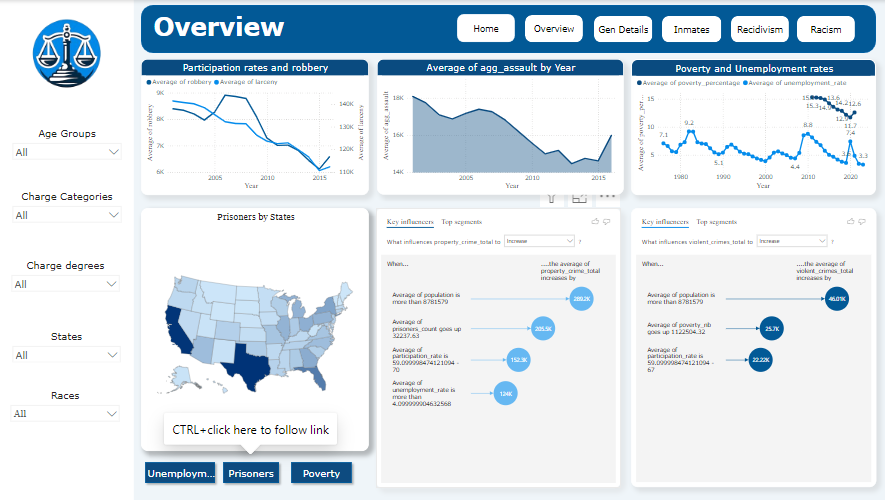

What the dashboard file says about the page in this screenshot:
{"tool":"powerbi","page":{"name":"General","canvas":[1920,1080],"ordinal":1},"visuals":[{"type":"shape","box":[304.6,10.8,1587.6,103.7],"z":0,"group":"g3"},{"type":"lineChart","title":"Poverty and Unemployment rates","fields":{"Y":["Avg(crimes f_general_metrics.poverty_percentage)","Avg(crimes f_general_metrics.unemployment_rate)"],"Category":["crimes f_general_metrics.date.Variation.Date Hierarchy.Year"]},"box":[1363,127.4,529.2,293.8],"z":0},{"type":"group","id":"g1","title":"Group 2","box":[326.2,19.4,1520.6,84.2],"z":1000,"group":"g3"},{"type":"shapeMap","title":"Prisoners by States","fields":{"Category":["crimes d_state.state_name"],"Value":["Sum(crimes f_general_metrics.prisoners_count)"]},"box":[304.6,449.3,492.5,524.9],"z":1000},{"type":"textbox","box":[326.2,19.4,652.3,84.2],"z":2000,"group":"g1"},{"type":"lineChart","title":"Participation rates and robbery","fields":{"Y":["Avg(crimes f_general_metrics.robbery)"],"Y2":["Avg(crimes f_general_metrics.larceny)"],"Category":["crimes f_general_metrics.date.Variation.Date Hierarchy.Year"]},"box":[304.6,127.4,492.5,293.8],"z":3000},{"type":"shape","box":[0,0,289.4,1080],"z":4000},{"type":"slicer","title":"Age Groups","fields":{"Values":["crimes d_age.age_group"]},"box":[17.5,275,255,77.5],"z":5000},{"type":"slicer","title":"Charge Categories","fields":{"Values":["crimes d_charges_categories.category"]},"box":[17.5,410,255,100],"z":6000},{"type":"slicer","title":"Charge degrees","fields":{"Values":["crimes d_charge.charge_degree"]},"box":[15,560,252.5,80],"z":7000},{"type":"slicer","title":"Races","fields":{"Values":["crimes d_race.race"]},"box":[12.5,840,255,77.5],"z":8000},{"type":"slicer","title":"States","fields":{"Values":["crimes d_state.state_name"]},"box":[17.5,712.5,252.5,70],"z":9000},{"type":"image","box":[25.5,0,236,229.6],"z":10000},{"type":"keyDriversVisual","fields":{"ExplainBy":["Avg(crimes f_general_metrics.unemployment_rate)","Avg(crimes f_general_metrics.participation_rate)","Avg(crimes f_general_metrics.poverty_percentage)","Avg(crimes f_general_metrics.prisoners_count)","Avg(crimes f_general_metrics.population)"],"Target":["crimes f_general_metrics.property_crime_total"]},"box":[811.3,448.5,529.1,604.7],"z":11000},{"type":"shape","box":[473.7,990.2,138.6,63],"z":12000},{"type":"shape","box":[619.8,990.2,148.7,63],"z":14000},{"type":"shape","box":[304.9,990.2,168.8,63],"z":17000},{"type":"areaChart","fields":{"Category":["crimes f_general_metrics.date.Variation.Date Hierarchy.Year"],"Y":["Avg(crimes f_general_metrics.agg_assault)"]},"box":[813.3,126.7,533.3,293.3],"z":18000},{"type":"keyDriversVisual","fields":{"ExplainBy":["Avg(crimes f_general_metrics.poverty_nb)","Avg(crimes f_general_metrics.population)","Avg(crimes f_general_metrics.participation_rate)"],"Target":["crimes f_general_metrics.violent_crimes_total"]},"box":[1363.3,450,530,603.3],"z":19000},{"type":"shape","box":[1282.2,34.6,126.3,56.7],"z":20000,"group":"g2"},{"type":"shape","box":[1430.8,34.6,128.4,56.7],"z":21000,"group":"g2"},{"type":"shape","box":[1578.3,34.6,125.2,56.7],"z":22000,"group":"g2"},{"type":"shape","box":[1722.6,34.6,125.2,56.7],"z":23000,"group":"g2"},{"type":"shape","box":[1134.7,32.4,125.2,58.9],"z":24000,"group":"g2"},{"type":"shape","box":[987.2,30.2,125.2,61.1],"z":25000,"group":"g2"},{"type":"group","id":"g2","title":"Group 1","box":[987.2,30.2,860.7,61.1],"z":25003,"group":"g1"},{"type":"group","id":"g3","title":"Group 3","box":[304.6,10.8,1587.6,103.7],"z":25005}]}

Visuals, with their boxes on the page's 1920x1080 design canvas (x1, y1, x2, y2). These are canvas units, not pixel positions in the 885x500 screenshot, which may show the page scaled, cropped or inside an application window:
shape: select_region(305, 11, 1892, 114)
"Poverty and Unemployment rates" lineChart: select_region(1363, 127, 1892, 421)
"Group 2" group: select_region(326, 19, 1847, 104)
"Prisoners by States" shapeMap: select_region(305, 449, 797, 974)
textbox: select_region(326, 19, 978, 104)
"Participation rates and robbery" lineChart: select_region(305, 127, 797, 421)
shape: select_region(0, 0, 289, 1080)
"Age Groups" slicer: select_region(18, 275, 272, 352)
"Charge Categories" slicer: select_region(18, 410, 272, 510)
"Charge degrees" slicer: select_region(15, 560, 268, 640)
"Races" slicer: select_region(12, 840, 268, 918)
"States" slicer: select_region(18, 712, 270, 782)
image: select_region(26, 0, 262, 230)
keyDriversVisual - Avg(crimes f_general_metrics.unemployment_rate) x Avg(crimes f_general_metrics.participation_rate): select_region(811, 448, 1340, 1053)
shape: select_region(474, 990, 612, 1053)
shape: select_region(620, 990, 768, 1053)
shape: select_region(305, 990, 474, 1053)
areaChart - crimes f_general_metrics.date.Variation.Date Hierarchy.Year x Avg(crimes f_general_metrics.agg_assault): select_region(813, 127, 1347, 420)
keyDriversVisual - Avg(crimes f_general_metrics.poverty_nb) x Avg(crimes f_general_metrics.population): select_region(1363, 450, 1893, 1053)
shape: select_region(1282, 35, 1408, 91)
shape: select_region(1431, 35, 1559, 91)
shape: select_region(1578, 35, 1704, 91)
shape: select_region(1723, 35, 1848, 91)
shape: select_region(1135, 32, 1260, 91)
shape: select_region(987, 30, 1112, 91)
"Group 1" group: select_region(987, 30, 1848, 91)
"Group 3" group: select_region(305, 11, 1892, 114)
